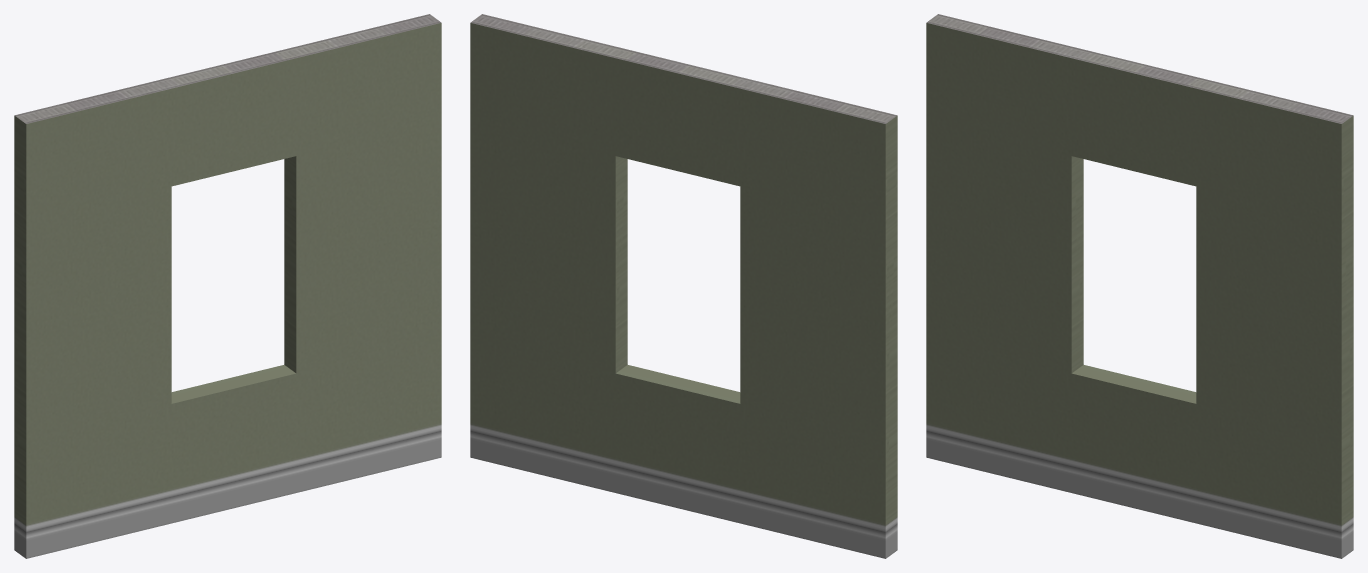
The model's file is wall3_4.fbx.
The picture shows the model from 3 angles, left to right: view 1: azimuth 30°, elevation 25°; view 2: azimuth 150°, elevation 25°; view 3: azimuth 330°, elevation 25°; orthographic projection.
Visible parts, largest first — view 1: wall3_willow_d; view 2: wall3_willow_d; view 3: wall3_willow_d.
Boxes of the visible parts, bbox=[...] form: wall3_willow_d: bbox=[14, 14, 441, 558]; wall3_willow_d: bbox=[470, 14, 897, 558]; wall3_willow_d: bbox=[926, 14, 1353, 558].
Bounding box in the file's own units: 400 × 400 × 20.
